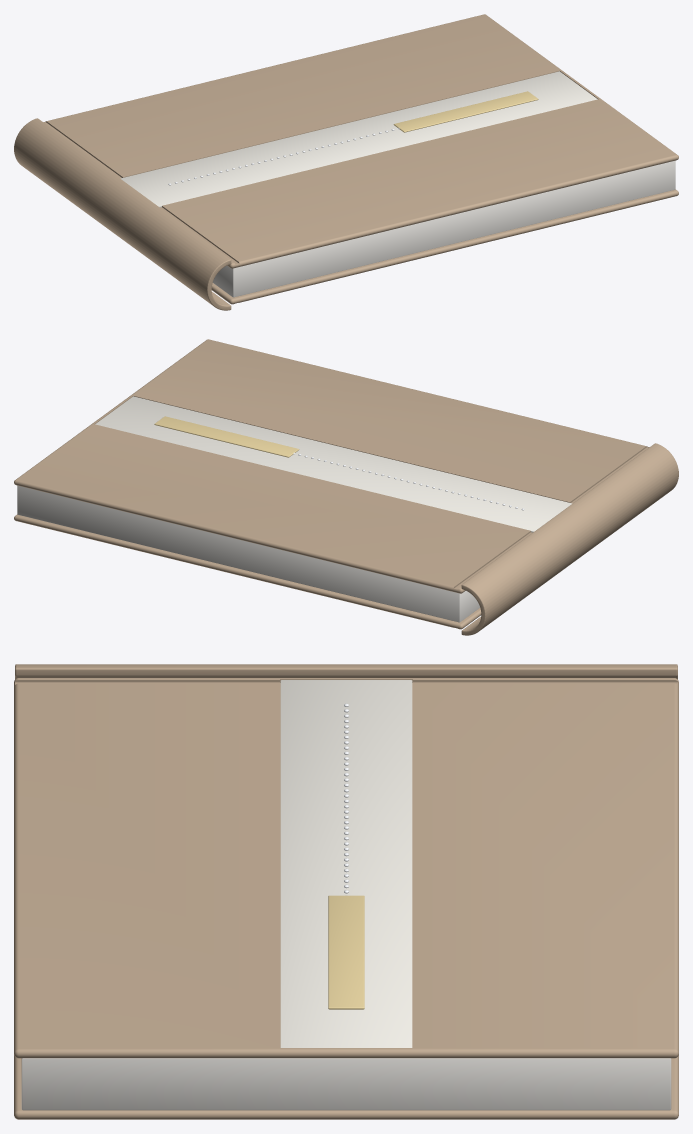
File: fascia--landscape.glb
3 views of the same model, one above another, from view 1: azimuth 30°, elevation 25°; view 2: azimuth 150°, elevation 25°; view 3: azimuth 270°, elevation 25° (orthographic). The views are drawn at different scales.
Parts seen in each view (by area): view 1: CoverFront, Band, Pages, Spine, CoverBack, Plate; view 2: CoverFront, Band, Pages, Spine, CoverBack, Plate; view 3: CoverFront, Band, Pages, Spine, CoverBack, Plate.
Boxes of the visible parts, x1,y1,x2,y2 form: CoverFront: [43, 14, 678, 268]; Band: [120, 71, 597, 207]; Pages: [213, 160, 675, 297]; Spine: [14, 118, 231, 310]; CoverBack: [211, 189, 678, 304]; Plate: [393, 91, 538, 132]; CoverFront: [14, 339, 649, 593]; Band: [95, 396, 572, 532]; Pages: [17, 485, 479, 622]; Spine: [461, 443, 678, 635]; CoverBack: [14, 514, 481, 629]; Plate: [154, 416, 299, 457]; CoverFront: [14, 678, 678, 1058]; Band: [280, 680, 412, 1047]; Pages: [21, 1058, 671, 1110]; Spine: [15, 664, 677, 679]; CoverBack: [14, 1055, 678, 1119]; Plate: [328, 895, 364, 1009].
Size of the model in its own units: 0.4208 by 0.043 by 0.3.
